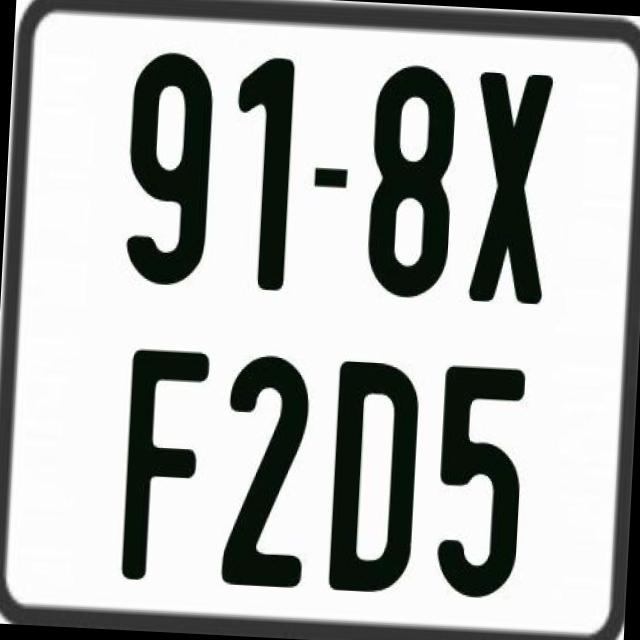1: (226, 56, 294, 296)
2: (218, 354, 310, 590)
5: (432, 360, 528, 595)
8: (364, 62, 458, 306)
9: (123, 48, 220, 284)
D: (326, 360, 424, 600)
F: (120, 348, 217, 592)
X: (464, 68, 550, 309)
